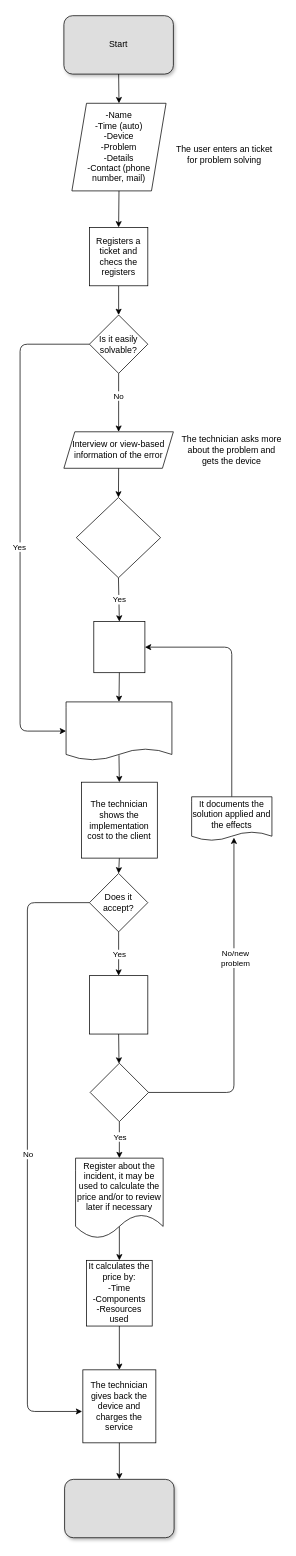
Some shapes in this 296 by 1556 pixel diagram are drawn without their labels. The shapes that lost their labels are listed below. From the top down, each one's centre as x and y in pixels, then its label:
the point at 118,537: Is it solvable in the first place?
the point at 119,647: The technician does a research
the point at 118,730: It documents the problem and the costs of implementation of the solution
the point at 118,1004: Implements the solution
the point at 119,1092: Is it solved?
the point at 119,1509: End
